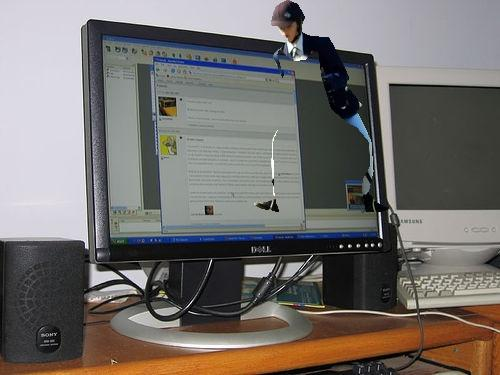tampered: (255, 1, 389, 212)
